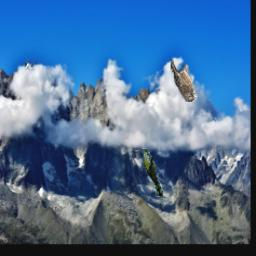Cuckoo: (143, 148, 164, 197)
Sparrow: (170, 59, 197, 102)
